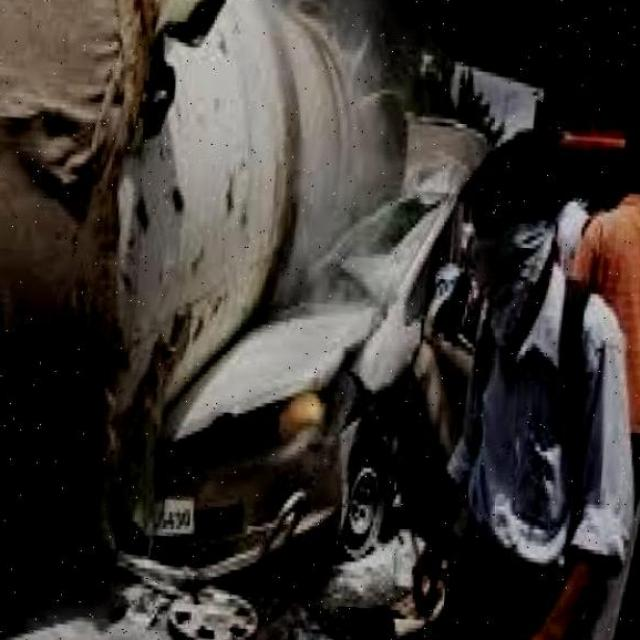accident: (78, 118, 499, 614)
